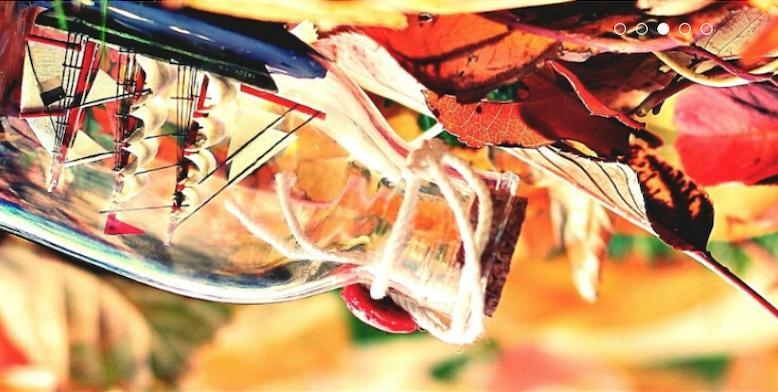ImgView: (1, 1, 777, 391)
